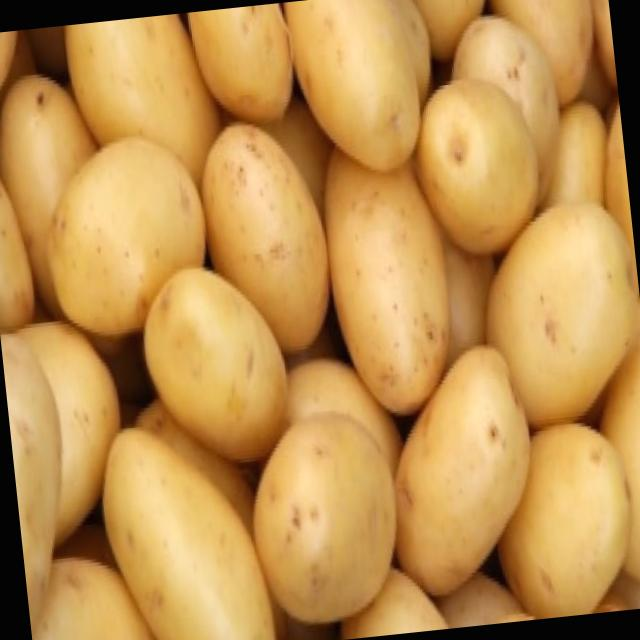potato: (373, 336, 542, 598), (95, 410, 275, 640), (238, 404, 414, 632), (38, 130, 220, 340), (320, 144, 460, 412), (479, 197, 640, 425), (192, 111, 336, 353), (136, 258, 298, 466), (499, 412, 640, 620), (414, 82, 552, 252)
